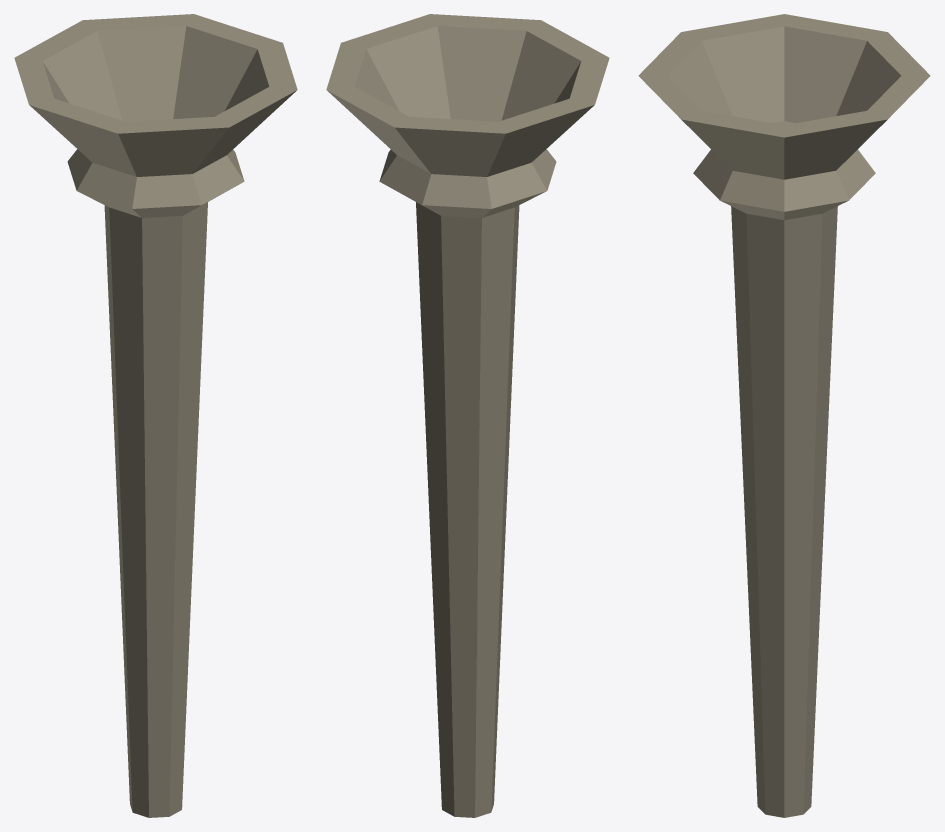
File: torch.fbx
3 renders of one model, left to right at view 1: azimuth 30°, elevation 25°; view 2: azimuth 150°, elevation 25°; view 3: azimuth 270°, elevation 25°, orthographic.
Visible parts, largest first — view 1: Cylinder.027; view 2: Cylinder.027; view 3: Cylinder.027.
Boxes of the visible parts, x1,y1,x2,y2 form: Cylinder.027: (14,14,297,817); Cylinder.027: (326,14,609,817); Cylinder.027: (638,14,930,817).
Size of the model in its own units: 0.1958 by 0.54 by 0.1958.
